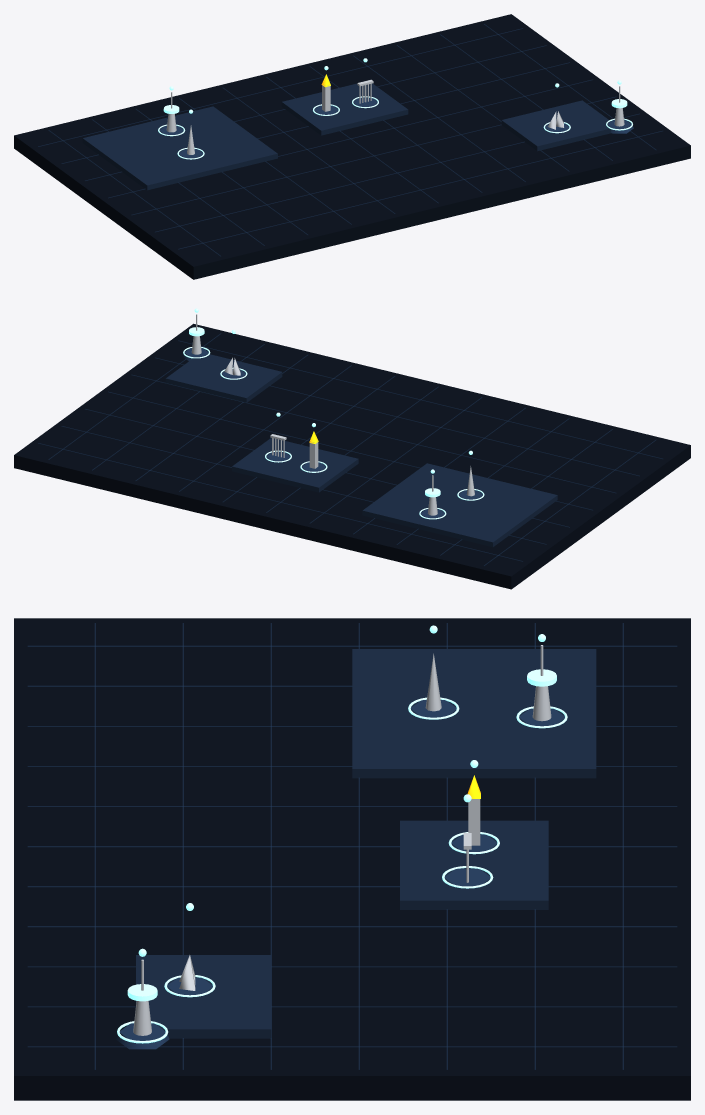
The model's file is worldmap_landscape.glb.
3 views of the same model, one above another, from view 1: azimuth 30°, elevation 25°; view 2: azimuth 150°, elevation 25°; view 3: azimuth 270°, elevation 25° (orthographic). The views are drawn at different scales.
Size of the model in its own units: 16 by 1.91 by 10.
